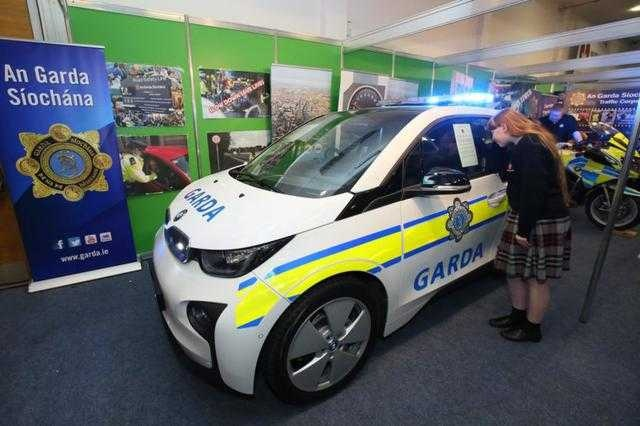Police Car: (161, 87, 576, 372)
